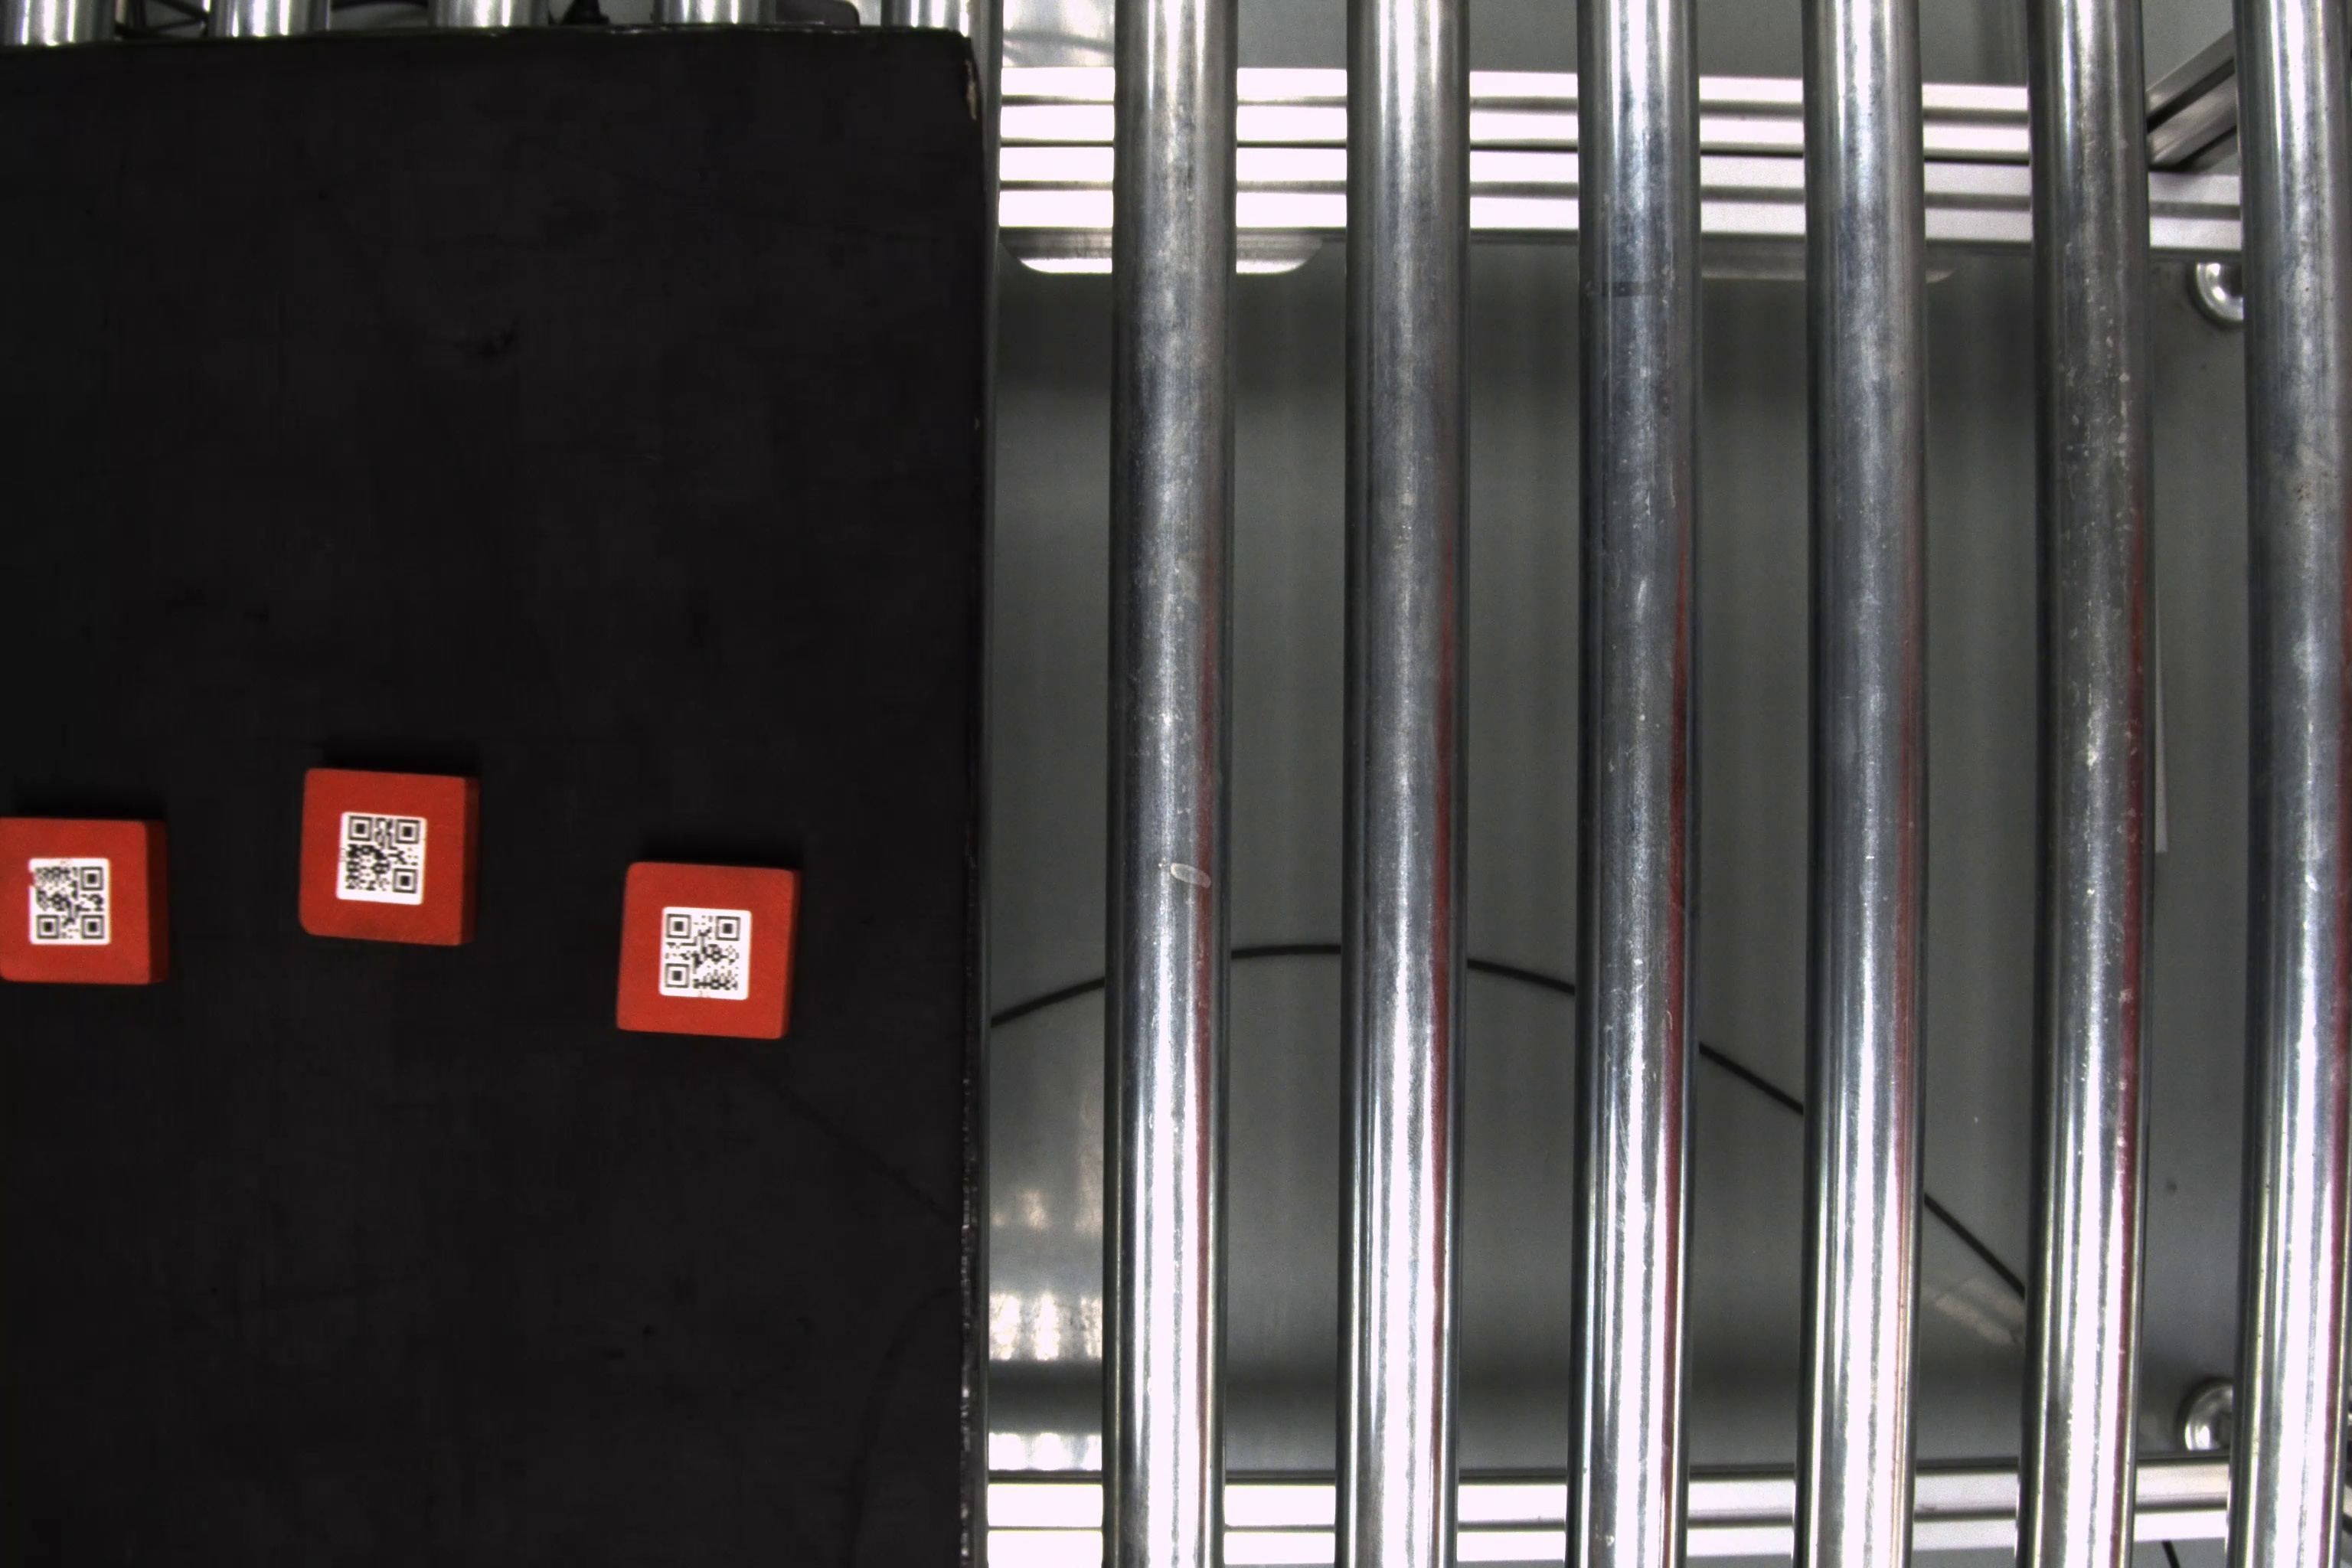wood: (616, 857, 800, 1043), (301, 759, 478, 945), (2, 815, 178, 994)
